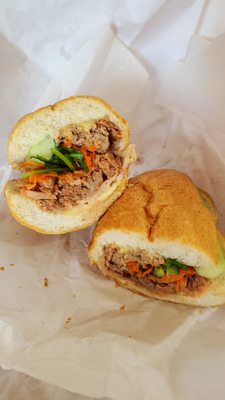soup: (86, 169, 225, 307), (4, 94, 136, 235)
